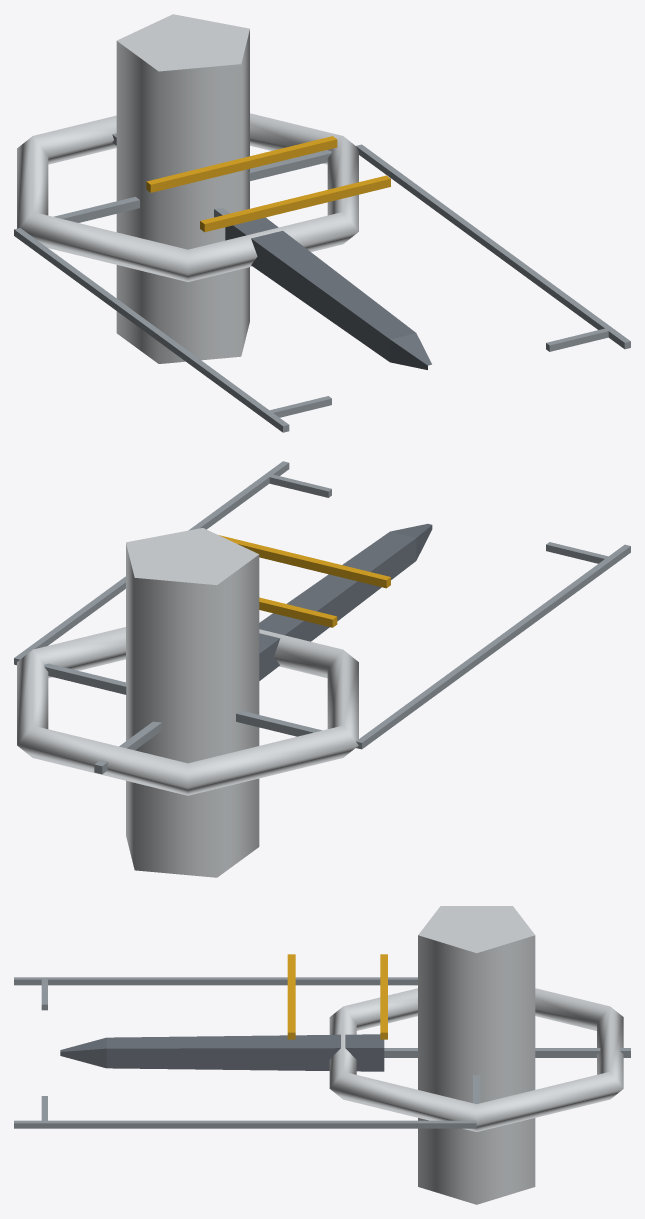
Rendered from space_orbital_shipyard_t2_lod2.glb.
The picture shows the model from 3 angles, top to bottom: view 1: azimuth 30°, elevation 25°; view 2: azimuth 150°, elevation 25°; view 3: azimuth 270°, elevation 25°; orthographic projection. The views are drawn at different scales.
Parts seen in each view (by area): view 1: body, ring, dock_arm_0, dock_arm_1, crane_0, crane_1; view 2: body, ring, dock_arm_0, dock_arm_1, crane_1, crane_0; view 3: body, ring, dock_arm_1, dock_arm_0, crane_1, crane_0.
Part boxes in pixels (<box>): body: <box>116,14,431,369</box>; ring: <box>17,113,358,281</box>; dock_arm_0: <box>14,228,331,432</box>; dock_arm_1: <box>356,144,630,351</box>; crane_0: <box>146,136,337,192</box>; crane_1: <box>200,175,390,232</box>; body: <box>126,523,432,877</box>; ring: <box>17,627,358,795</box>; dock_arm_0: <box>356,542,630,749</box>; dock_arm_1: <box>14,461,331,665</box>; crane_1: <box>218,535,390,588</box>; crane_0: <box>259,597,337,627</box>; body: <box>60,906,535,1204</box>; ring: <box>329,988,630,1131</box>; dock_arm_1: <box>14,1096,476,1128</box>; dock_arm_0: <box>14,977,417,1010</box>; crane_1: <box>287,954,295,1039</box>; crane_0: <box>380,954,387,1039</box>.
Size of the model in its own units: 22.4 by 18 by 40.
